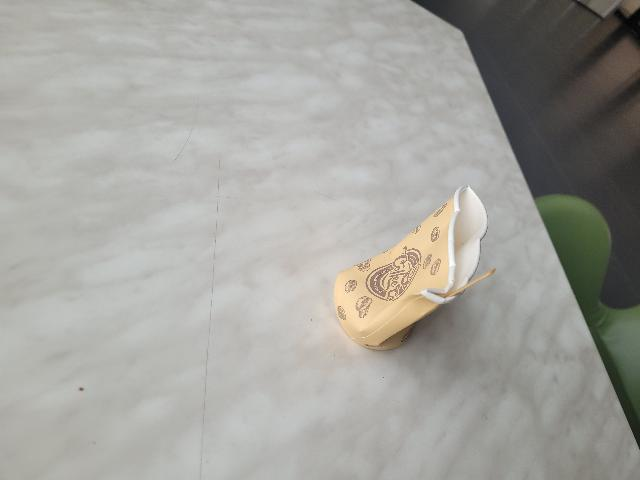Kagit: (331, 179, 498, 354)
